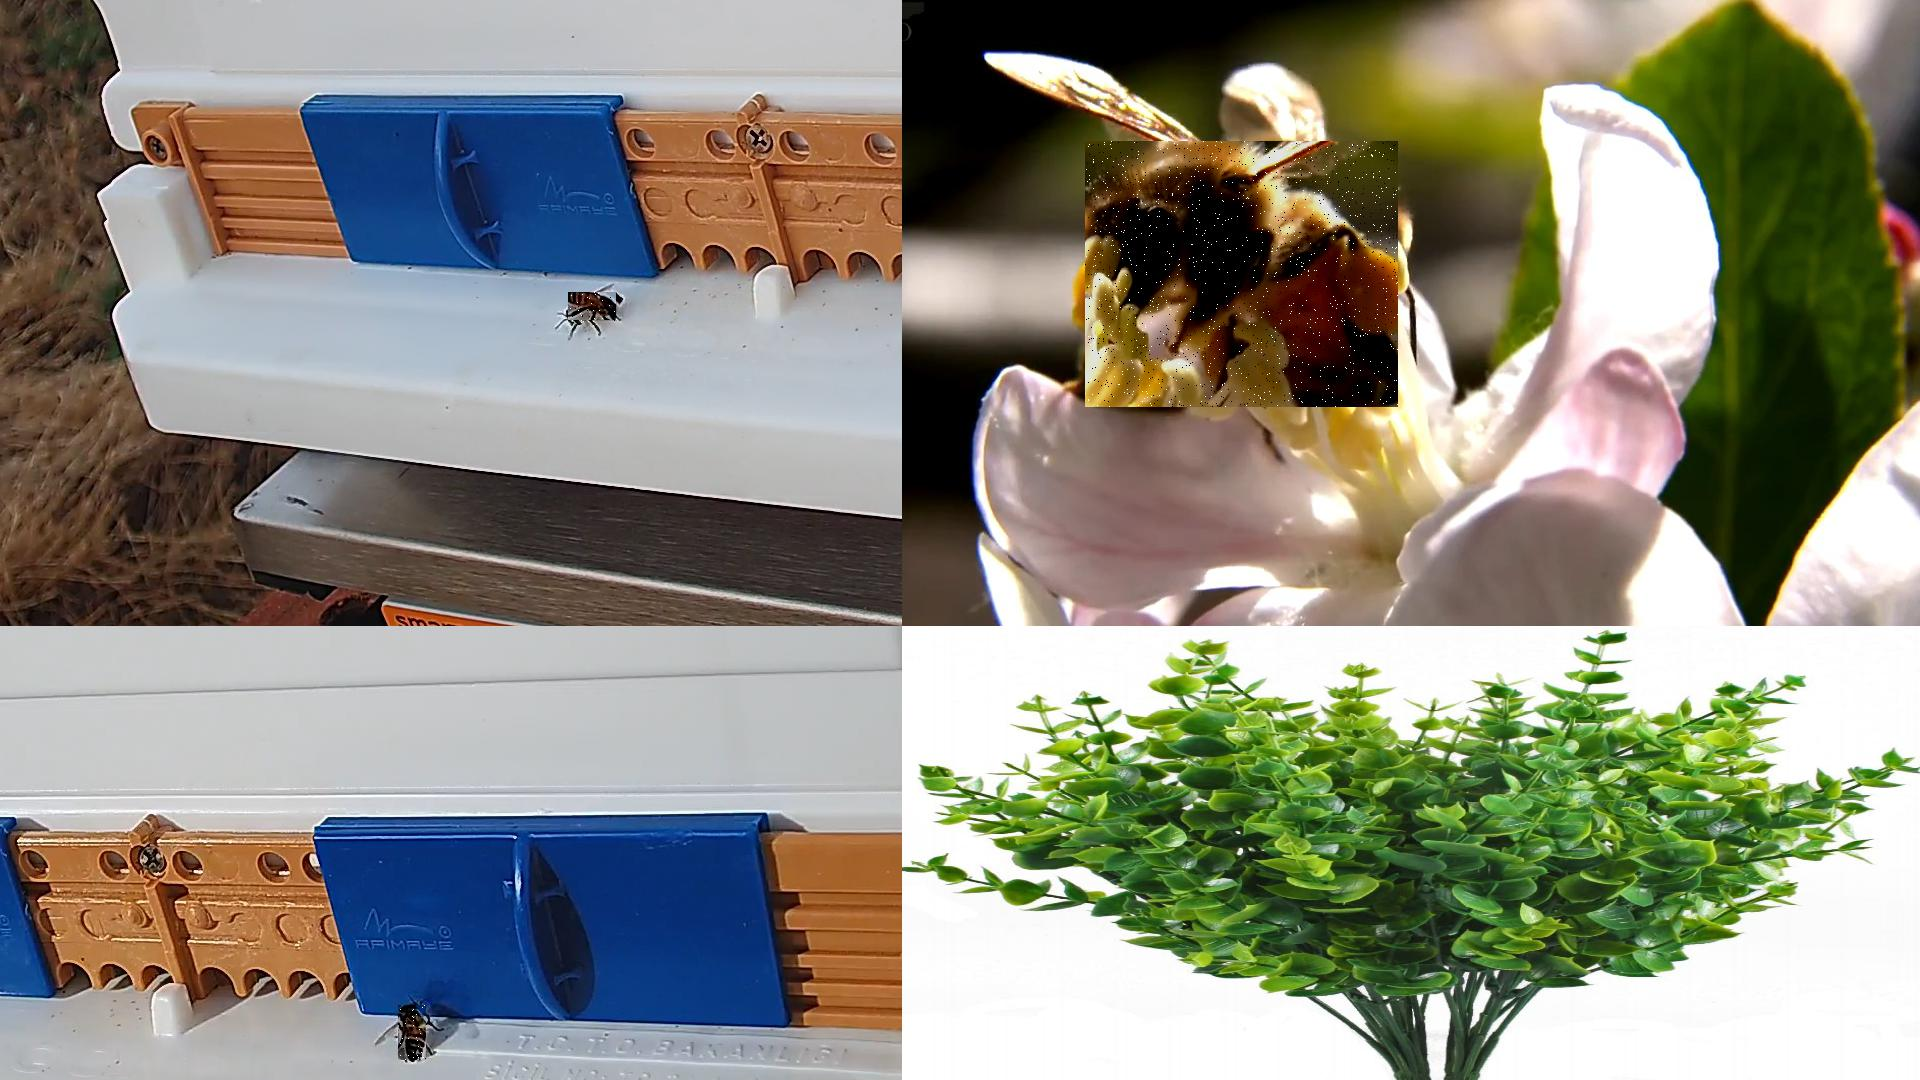bee: (568, 293, 621, 324), (398, 1005, 427, 1062)
pollenbee: (1085, 141, 1399, 407)
